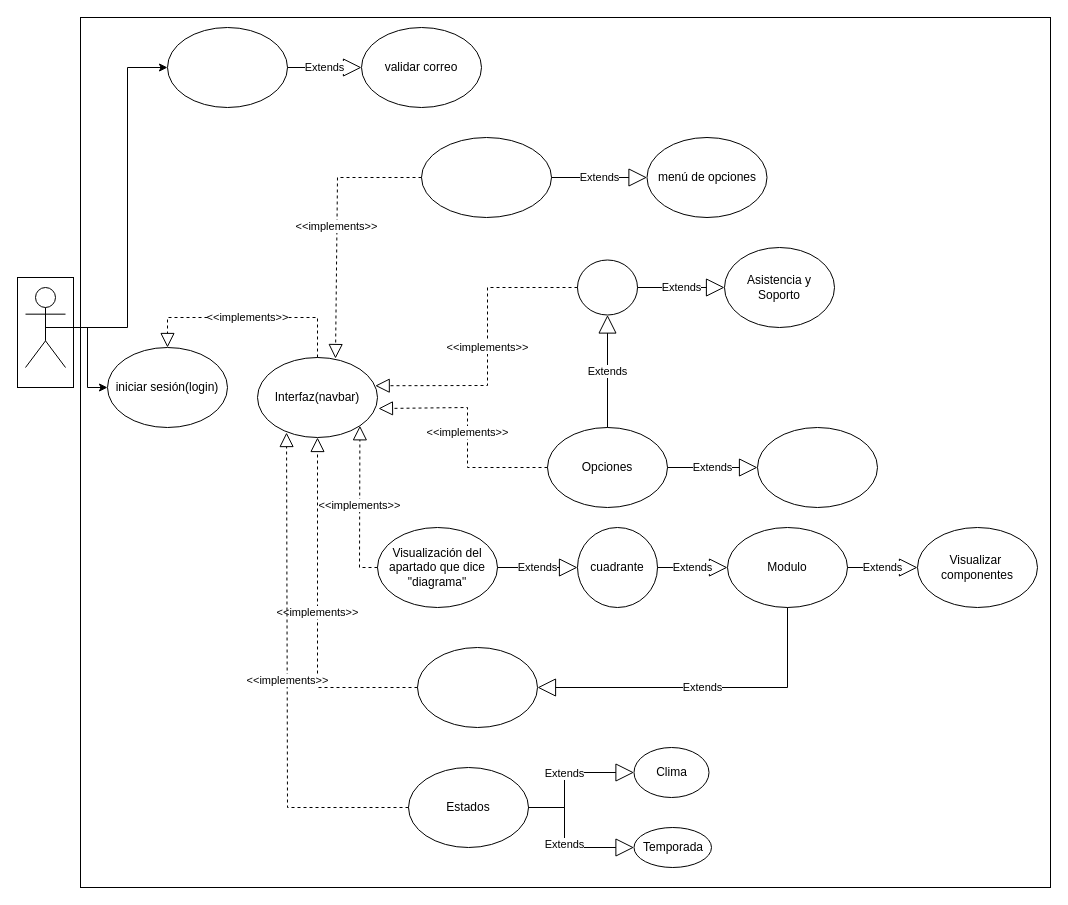
Some shapes in this 1068 by 905 pixel diagram are drawn without their labels. Each missing label, with the centre of its shape:
Ayuda: the point at 607,287
configuración de interfaz y dispositivos: the point at 817,467
Historial: the point at 486,177
Humedad de la tierra: the point at 477,687
registrarse en el sistema: the point at 227,67
Usuario: the point at 45,327
